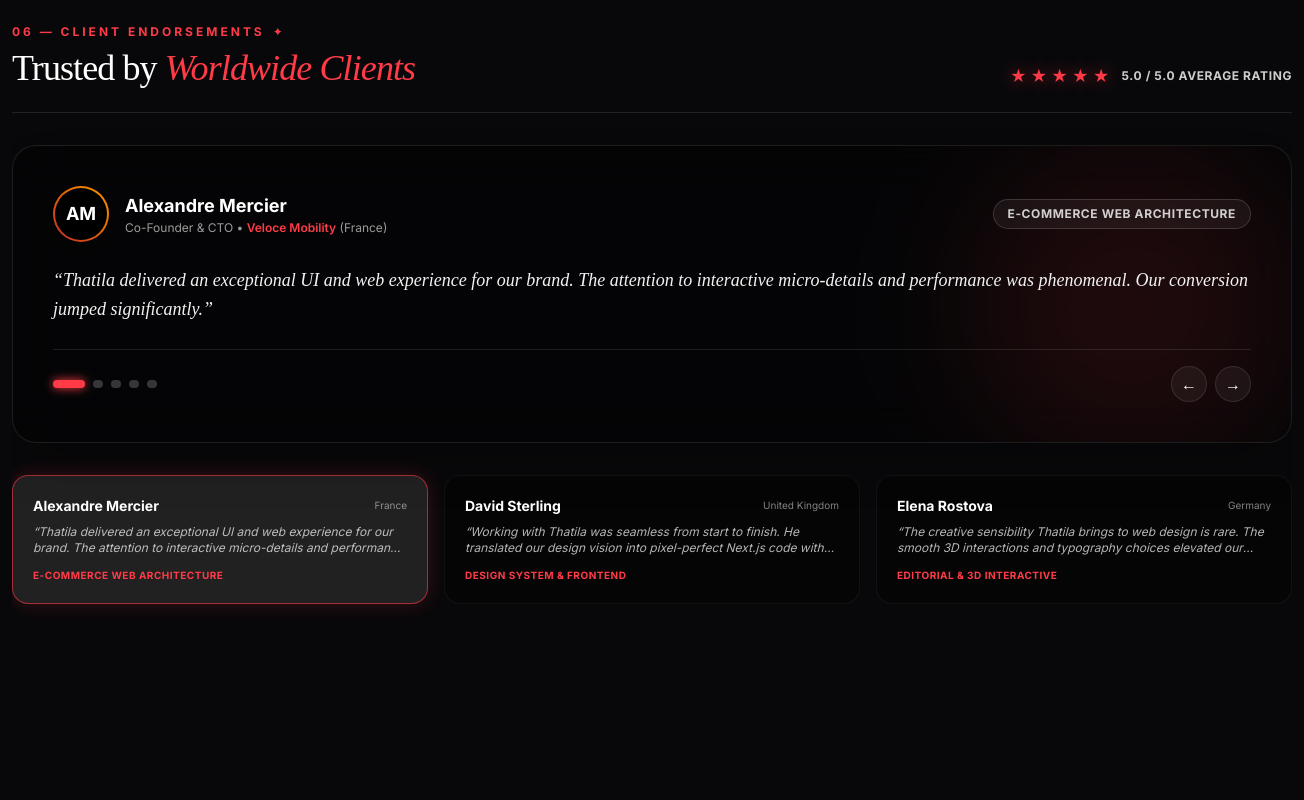
Test case: TestimonialMarquee Component › cycles to next testimonial on arrow button click
Click the button named "next testimonial".
click(1233, 384)  # box [1215,366,1251,402]
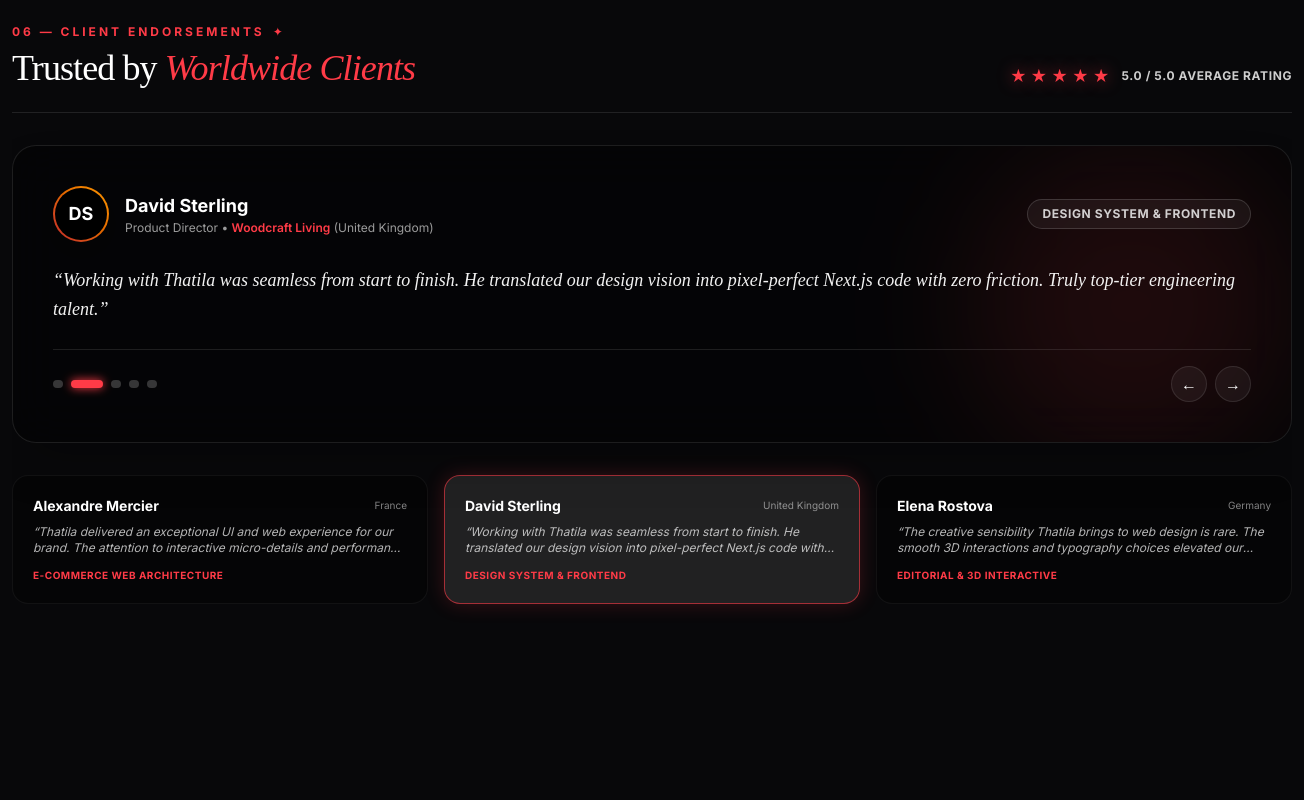
Expected: the heading "David Sterling" is shown, [125,195,248,216]
